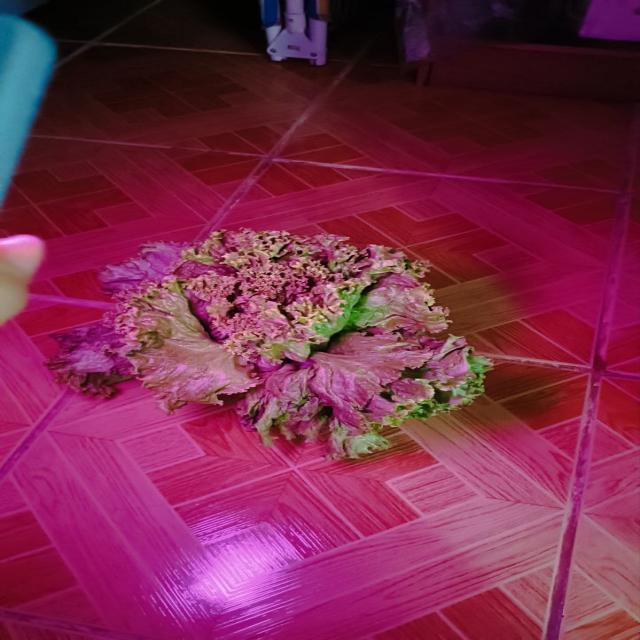Lettuce-Ready-to-Harvest: (54, 236, 481, 465)
